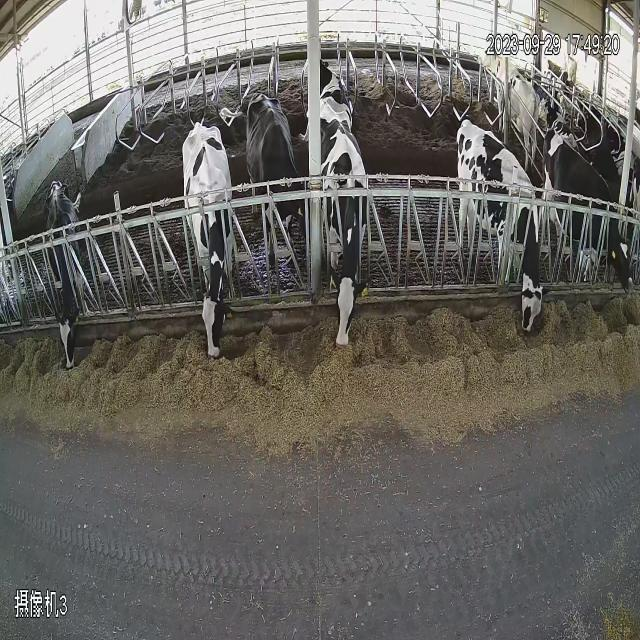feeding: (437, 95, 553, 362), (305, 102, 385, 368), (178, 110, 240, 379), (33, 158, 97, 394)
lying down: (288, 44, 362, 145), (538, 65, 583, 174)
standing: (463, 24, 541, 170), (554, 36, 590, 92)
